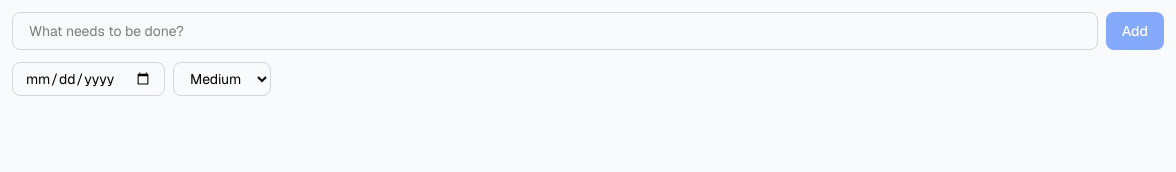
TodoForm › shows error when POST fails
Type "x" into the field named "todo title". click: (555, 31)
box: [12, 12, 1098, 50]
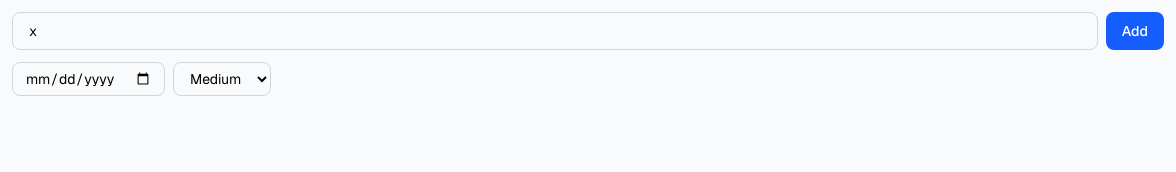
Click the button "Add". click: (1135, 31)
box: [1106, 12, 1164, 50]
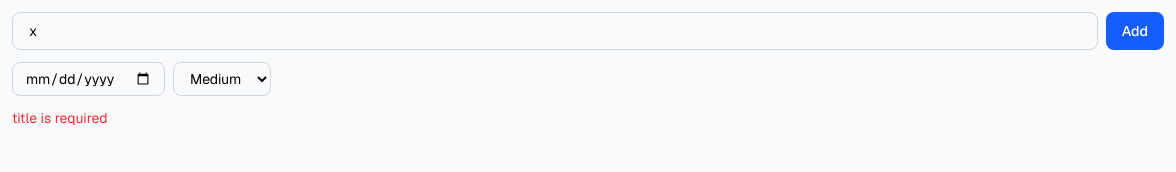
Expected: the text "title is required" is shown, [12, 109, 108, 127]
